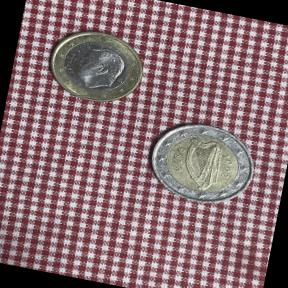coin: (138, 108, 266, 217), (39, 18, 153, 114)
